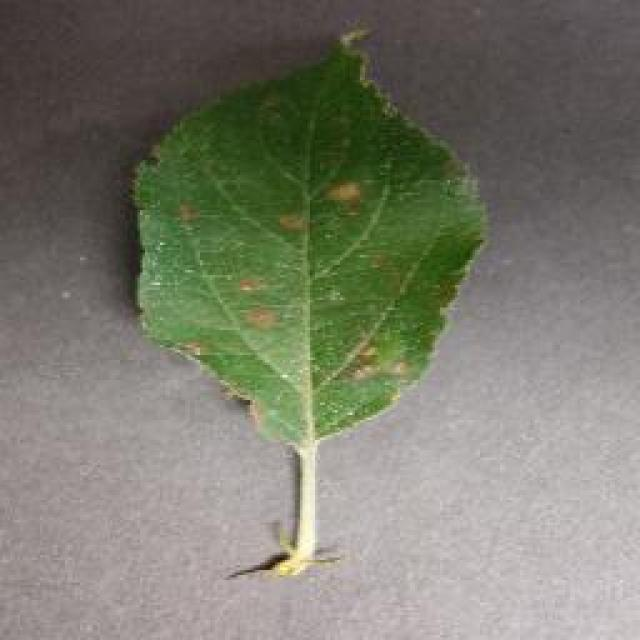apple healthy: (125, 22, 490, 578)
